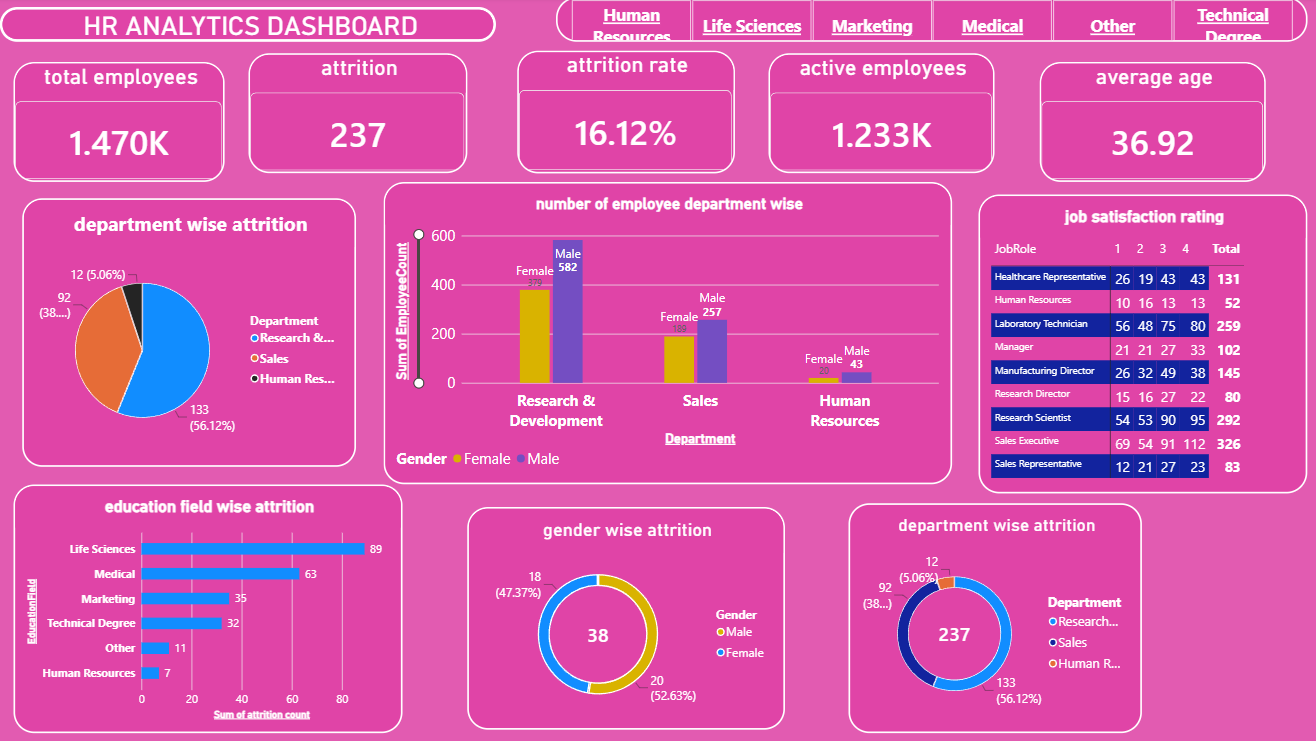

Layout of this report page (visuals, bound fields, positions):
{"tool":"powerbi","page":{"name":"Page 1","canvas":[1920,1080],"ordinal":0},"visuals":[{"type":"cardVisual","title":"total employees","fields":{"Data":["Sum(hr_analytics.EmployeeCount)"]},"box":[32.6,94.1,305.8,173.7],"z":0},{"type":"cardVisual","title":"attrition","fields":{"Data":["Sum(hr_analytics.attrition count)"]},"box":[372.8,81.4,316.7,173.7],"z":1000},{"type":"cardVisual","title":"attrition rate","fields":{"Data":["hr_analytics.attririon rate"]},"box":[761.9,77.8,314.9,177.3],"z":2000},{"type":"cardVisual","title":"active employees","fields":{"Data":["hr_analytics.active employees"]},"box":[1125.6,81.4,327.5,173.7],"z":3000},{"type":"cardVisual","title":"average age","fields":{"Data":["Avg(hr_analytics.Age)"]},"box":[1518.3,94.1,327.5,173.7],"z":4000},{"type":"pieChart","title":"department wise attrition","fields":{"Category":["hr_analytics.Department"],"Y":["Sum(hr_analytics.attrition count)"]},"box":[45.2,291.4,483.2,389.1],"z":5000},{"type":"clusteredColumnChart","title":"number of employee department wise","fields":{"Category":["hr_analytics.Department"],"Series":["hr_analytics.Gender"],"Y":["Sum(hr_analytics.EmployeeCount)"]},"box":[568.2,267.8,823.4,437.9],"z":6000},{"type":"pivotTable","title":"job satisfaction rating","fields":{"Columns":["hr_analytics.JobSatisfaction"],"Rows":["hr_analytics.JobRole"],"Values":["Sum(hr_analytics.EmployeeCount)"]},"box":[1429.6,285.9,475.9,432.5],"z":7000},{"type":"barChart","title":"education field wise attrition","fields":{"Category":["hr_analytics.EducationField"],"Y":["Sum(hr_analytics.attrition count)"]},"box":[32.6,705.8,562.8,360.1],"z":8000},{"type":"donutChart","title":"gender wise attrition","fields":{"Category":["hr_analytics.Gender"],"Y":["Sum(hr_analytics.attrition count)"]},"box":[689.5,738.3,459.7,322.1],"z":8001},{"type":"donutChart","title":"department wise attrition","fields":{"Category":["hr_analytics.Department"],"Y":["Sum(hr_analytics.attrition count)"]},"box":[1241.4,732.9,425,333],"z":8002},{"type":"slicer","fields":{"Values":["hr_analytics.EducationField"]},"box":[818,0,1087.6,65.1],"z":8003},{"type":"textbox","box":[100,100,300,300],"z":8005},{"type":"textbox","title":"HR ANALYTICS DASHBOARD","box":[12.7,14.5,718.4,50.7],"z":8006}]}

Visuals, with their boxes in screenshot pixels (x1, y1, x2, y2), scaled from the page's 1920x1080 canvas onto the 1316x741 screenshot:
"total employees" cardVisual: locate(22, 65, 232, 184)
"attrition" cardVisual: locate(256, 56, 473, 175)
"attrition rate" cardVisual: locate(522, 53, 738, 175)
"active employees" cardVisual: locate(772, 56, 996, 175)
"average age" cardVisual: locate(1041, 65, 1265, 184)
"department wise attrition" pieChart: locate(31, 200, 362, 467)
"number of employee department wise" clusteredColumnChart: locate(389, 184, 954, 484)
"job satisfaction rating" pivotTable: locate(980, 196, 1306, 493)
"education field wise attrition" barChart: locate(22, 484, 408, 731)
"gender wise attrition" donutChart: locate(473, 507, 788, 728)
"department wise attrition" donutChart: locate(851, 503, 1142, 731)
slicer - hr_analytics.EducationField: locate(561, 0, 1306, 45)
textbox: locate(69, 69, 274, 274)
"HR ANALYTICS DASHBOARD" textbox: locate(9, 10, 501, 45)
